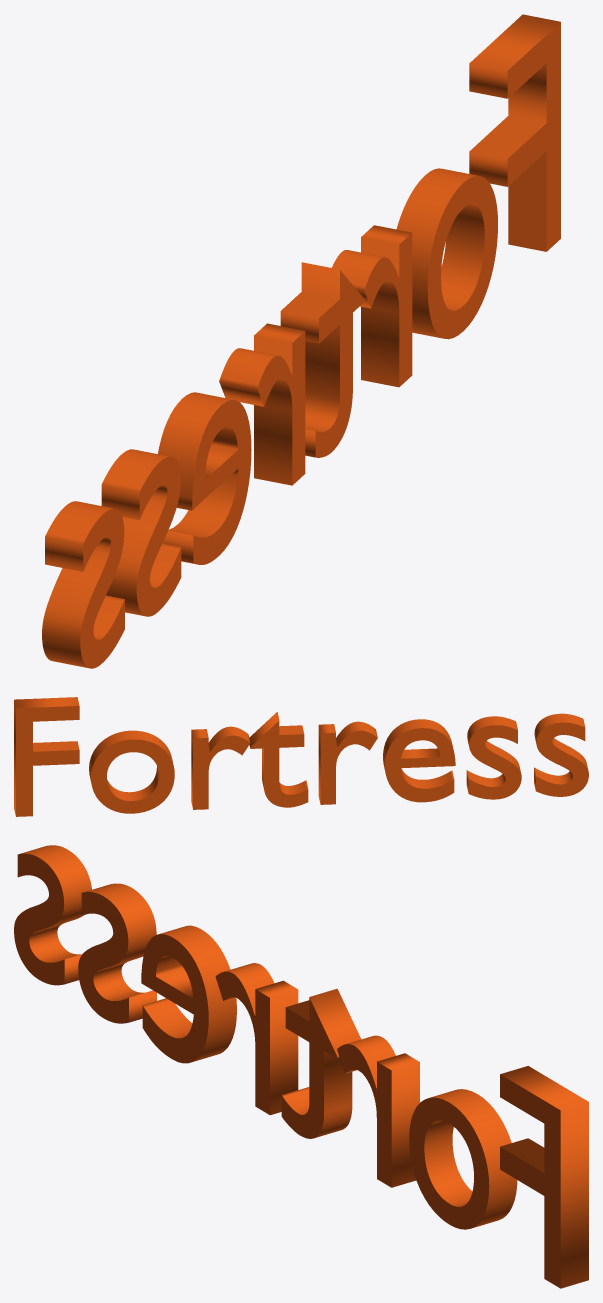
The model's file is FortressText.obj.
The picture shows the model from 3 angles, top to bottom: view 1: azimuth 30°, elevation 25°; view 2: azimuth 150°, elevation 25°; view 3: azimuth 270°, elevation 25°; orthographic projection. The views are drawn at different scales.
Parts seen in each view (by area): view 1: Text.011_Mesh.010; view 2: Text.011_Mesh.010; view 3: Text.011_Mesh.010.
Part boxes in pixels (left/top/right/bottom): Text.011_Mesh.010: left=42, top=14, right=560, bottom=668; Text.011_Mesh.010: left=14, top=697, right=588, bottom=816; Text.011_Mesh.010: left=14, top=845, right=588, bottom=1288.
Size of the model in its own units: 74.47 by 18.74 by 54.07.
1 material, 1 textured.
